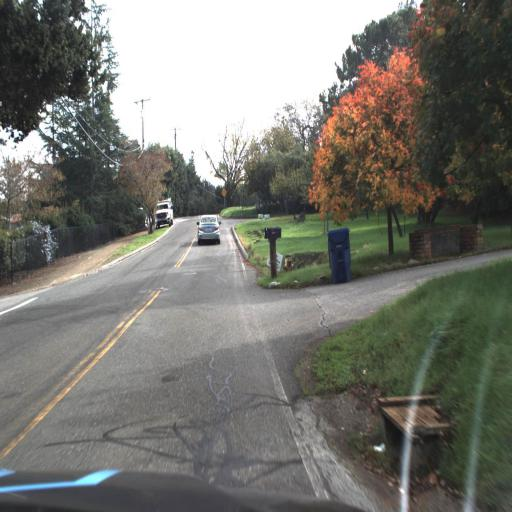car: (192, 206, 222, 245)
truck: (152, 198, 175, 230)
